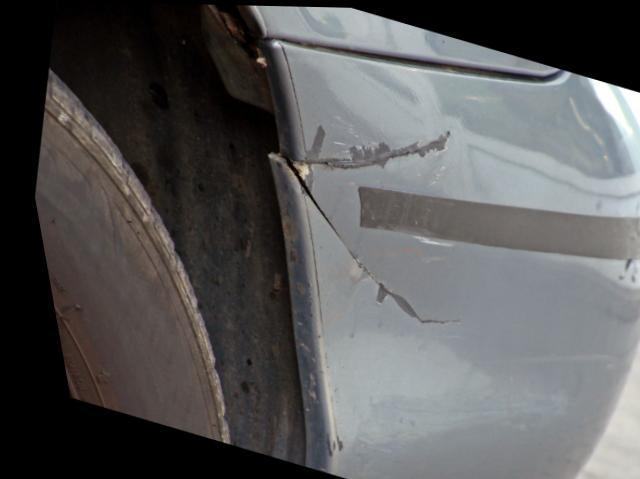crack: (276, 128, 453, 325)
